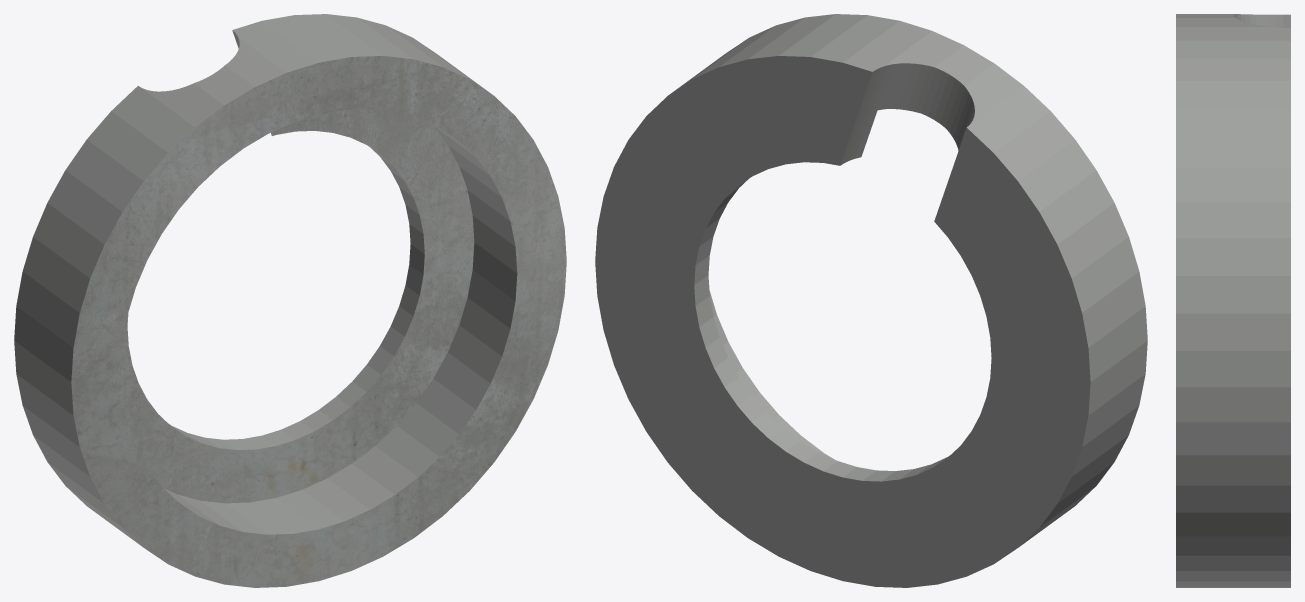
File: pool_042.obj
The picture shows the model from 3 angles, left to right: view 1: azimuth 30°, elevation 25°; view 2: azimuth 150°, elevation 25°; view 3: azimuth 270°, elevation 25°; orthographic projection.
Size of the model in its own units: 10 by 10 by 2.
